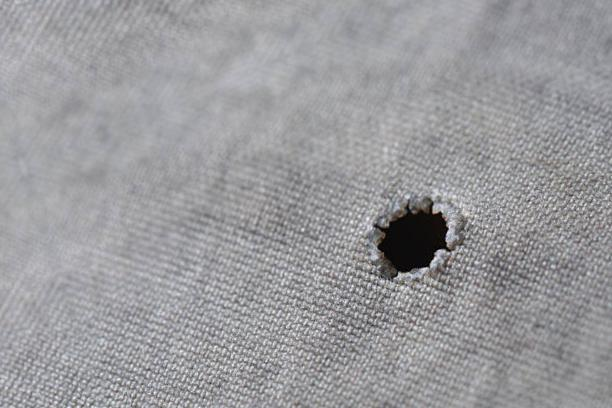hole: (362, 192, 470, 285)
